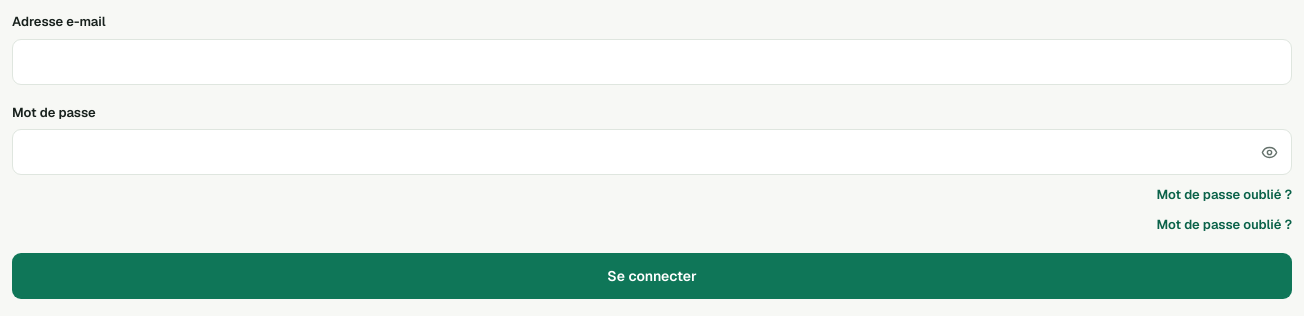
authentication forms › toggles password visibility accessibly
Click the button named "Afficher le mot de passe".
click(1269, 152)  # box [1251, 134, 1287, 170]
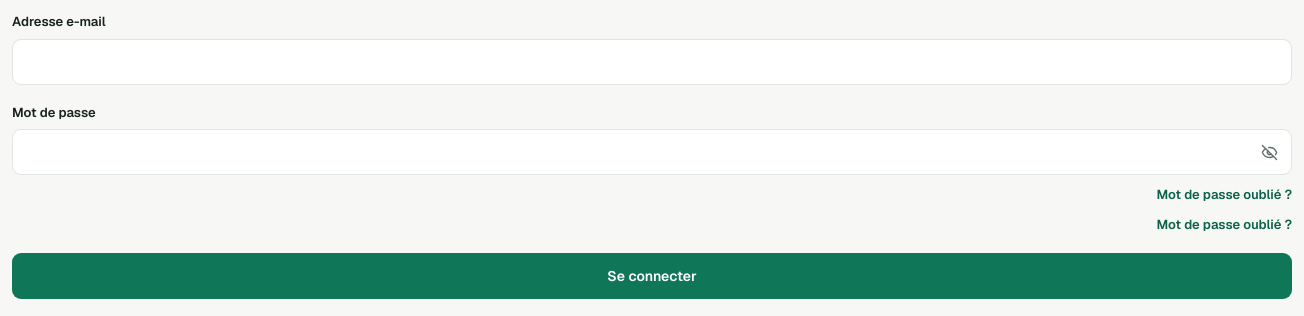
Check: the button named "Masquer le mot de passe" is shown, box [1251, 134, 1287, 170]
